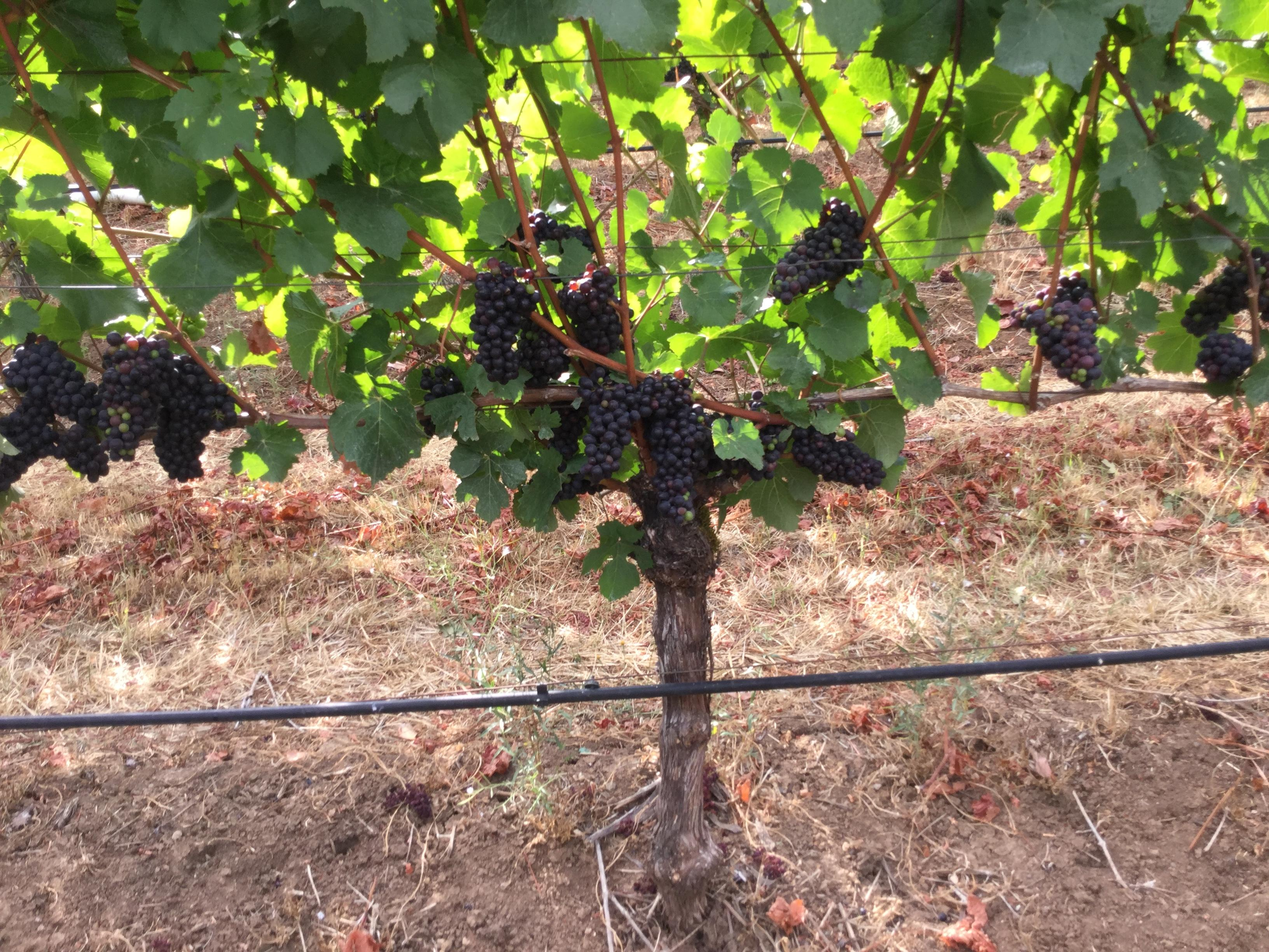leaf: (26, 233, 148, 332), (381, 36, 485, 143), (994, 0, 1119, 89), (1099, 111, 1202, 218), (149, 215, 263, 311), (100, 97, 198, 206), (925, 142, 1008, 266), (329, 374, 423, 482), (727, 149, 822, 241), (165, 77, 256, 161), (316, 177, 408, 258), (322, 0, 435, 63), (554, 0, 679, 52), (963, 64, 1035, 145), (260, 107, 342, 178), (39, 0, 127, 66), (581, 520, 652, 599), (739, 460, 817, 531), (136, 0, 229, 53), (230, 422, 306, 482), (274, 205, 336, 274), (805, 294, 869, 360), (809, 0, 881, 56), (480, 0, 558, 46), (678, 271, 739, 326), (888, 348, 942, 410), (856, 400, 906, 466), (359, 258, 420, 311), (559, 102, 609, 159), (711, 418, 764, 469), (1146, 324, 1199, 373), (953, 265, 994, 319), (476, 197, 520, 247), (0, 299, 40, 346), (1240, 360, 1268, 406), (1177, 115, 1196, 125), (269, 109, 285, 116), (1171, 123, 1175, 125), (1161, 122, 1162, 127), (313, 110, 315, 112), (715, 113, 717, 114), (1164, 117, 1169, 117), (980, 345, 981, 345)
